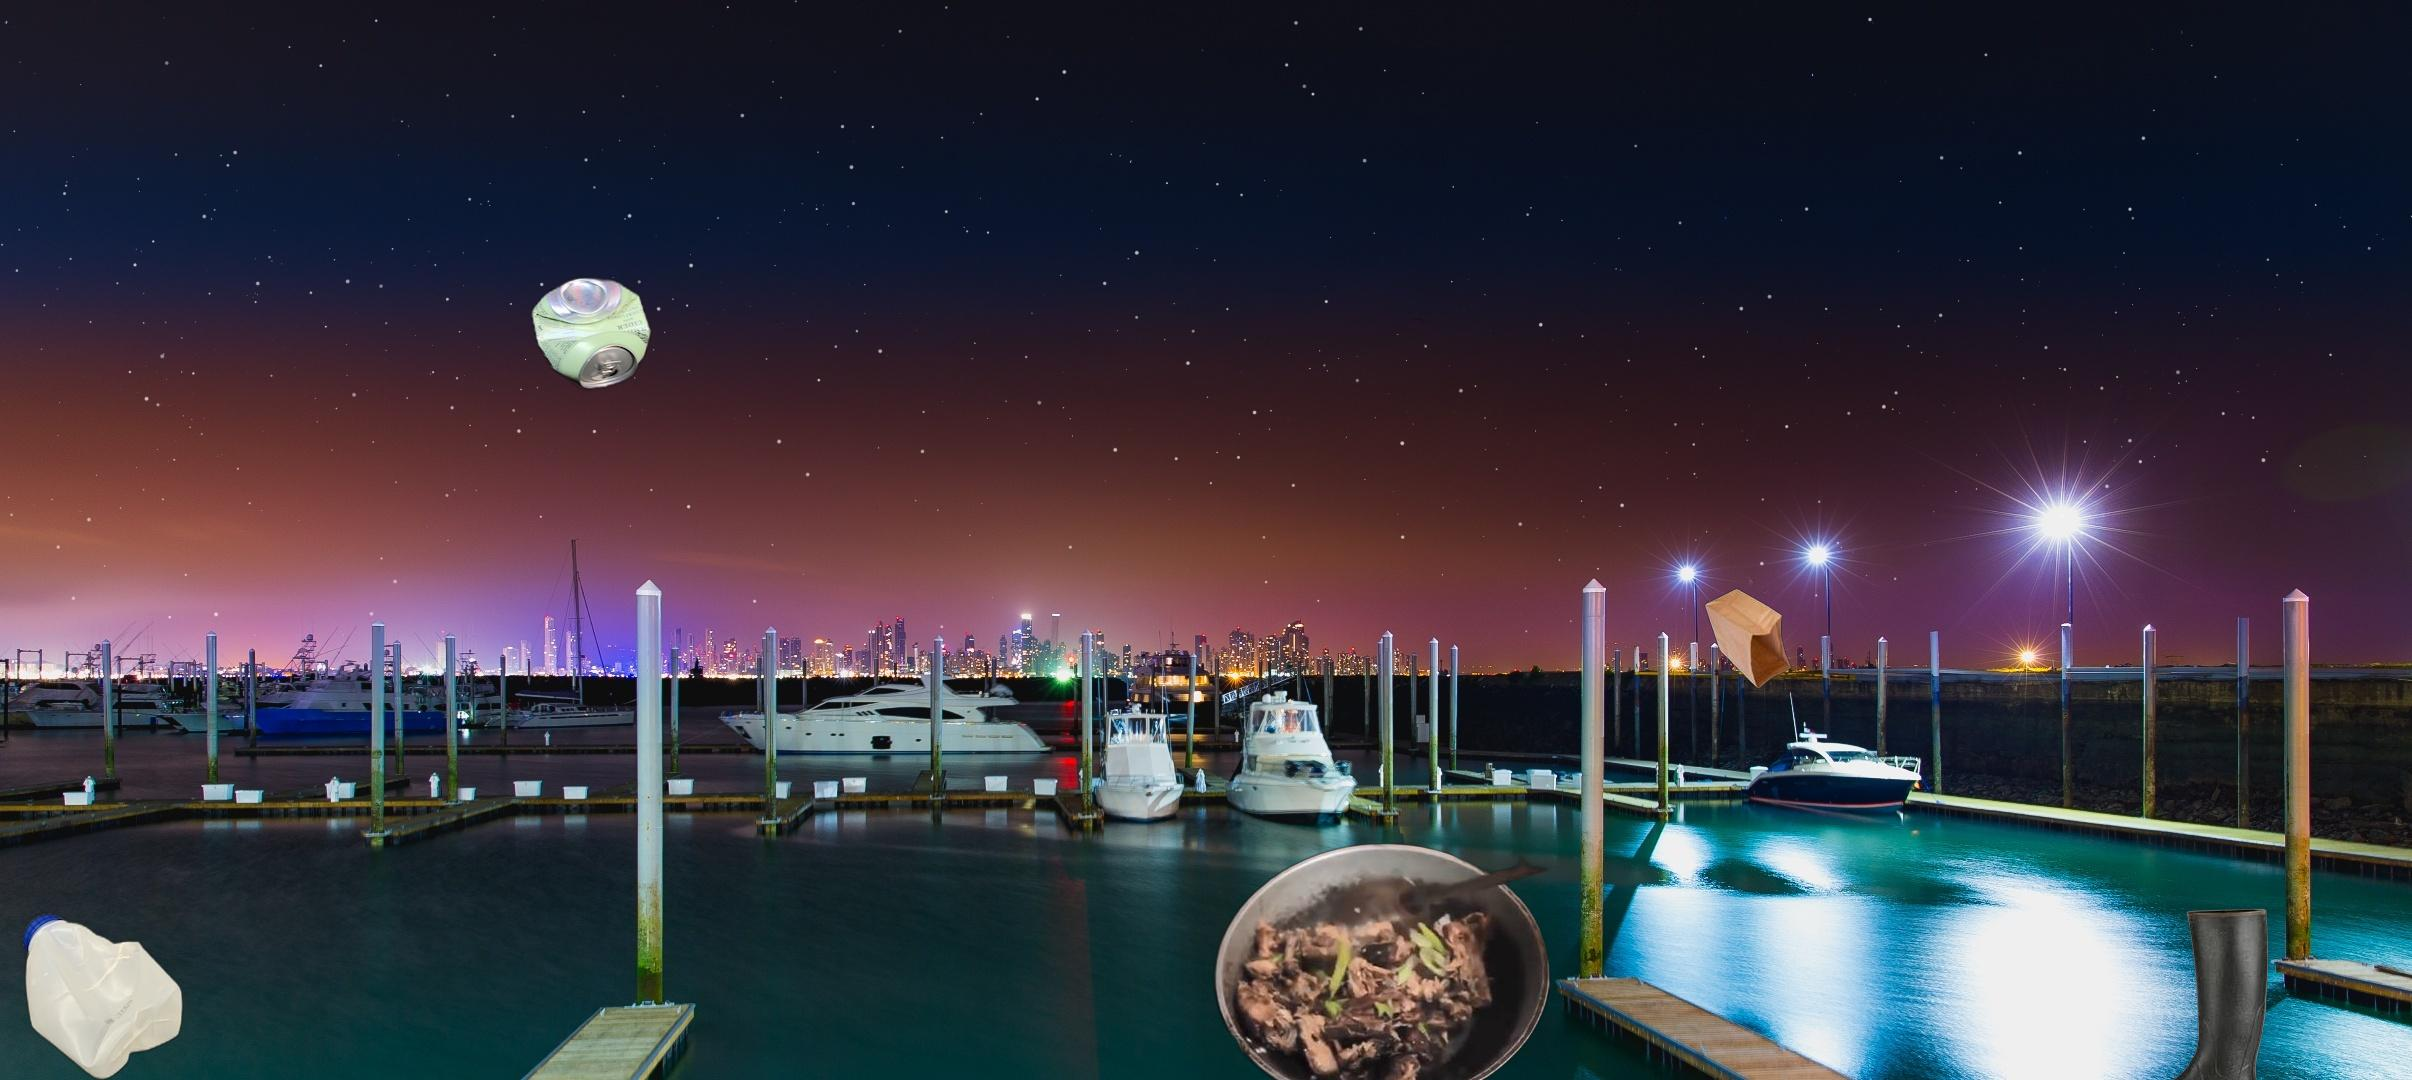biological: (1209, 840, 1560, 1080)
metal-cans: (528, 271, 785, 735)
paper-bag: (1701, 588, 1795, 695)
plastic-bottles: (17, 908, 188, 1080)
shoes: (2117, 905, 2270, 1080)
